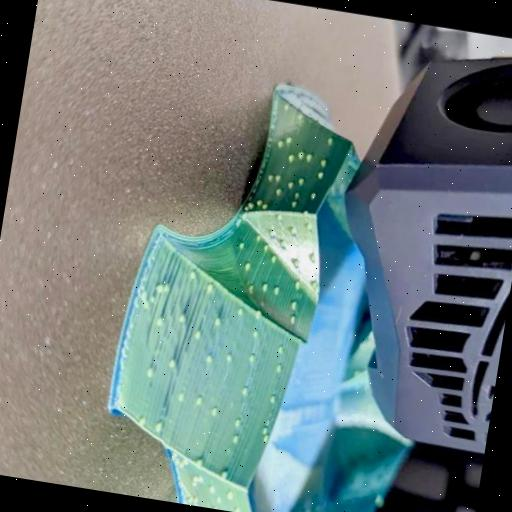blobs: (155, 276, 173, 298), (188, 471, 208, 490), (162, 354, 180, 372), (214, 466, 232, 482), (268, 282, 284, 300), (193, 390, 206, 409), (141, 362, 156, 378), (153, 313, 168, 328), (256, 422, 272, 436), (308, 276, 322, 292), (302, 149, 316, 165), (208, 400, 220, 418), (266, 392, 280, 407), (211, 312, 224, 328), (248, 323, 261, 339), (234, 236, 247, 252), (152, 416, 165, 432), (283, 131, 296, 147), (286, 310, 298, 327), (203, 480, 217, 494), (244, 350, 258, 364), (202, 350, 216, 364), (276, 236, 290, 250), (230, 415, 243, 430), (274, 137, 287, 152), (194, 452, 206, 468), (249, 306, 265, 318), (267, 250, 279, 266), (188, 266, 200, 282), (192, 325, 204, 341), (175, 308, 187, 324), (134, 413, 146, 429), (232, 304, 246, 317), (316, 155, 330, 168), (290, 109, 304, 122), (222, 488, 237, 500), (254, 231, 266, 246), (204, 279, 216, 294), (291, 186, 304, 199), (230, 431, 242, 445), (290, 255, 302, 269), (258, 280, 270, 294), (174, 388, 186, 402), (287, 194, 297, 210), (213, 492, 224, 506), (223, 348, 234, 362), (261, 240, 272, 254), (306, 250, 318, 262), (272, 171, 283, 184), (239, 385, 250, 397), (287, 298, 299, 309), (288, 223, 299, 235), (242, 260, 253, 272), (308, 191, 320, 202), (285, 179, 296, 191), (244, 199, 255, 211), (292, 276, 301, 290), (261, 201, 272, 212), (276, 342, 286, 354), (244, 282, 256, 292), (326, 132, 336, 144), (295, 147, 305, 159), (297, 174, 307, 186), (254, 196, 266, 206), (266, 170, 275, 183), (302, 220, 312, 230), (287, 151, 295, 163), (275, 184, 283, 196), (316, 168, 325, 178), (274, 363, 283, 371)
